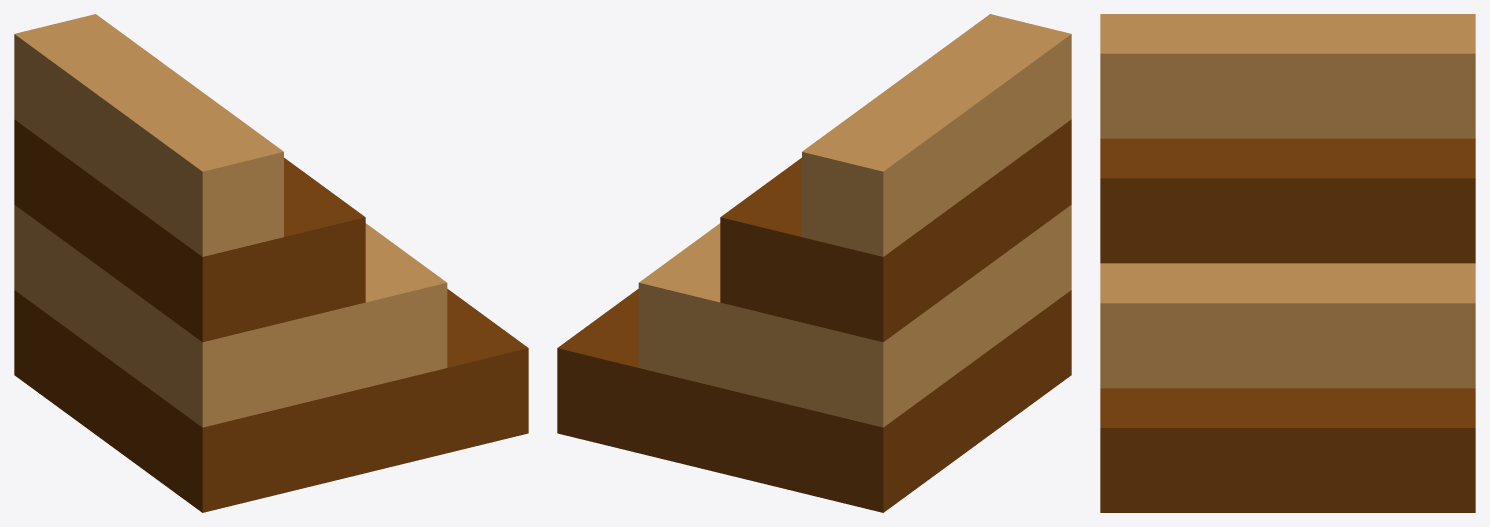
File: Merdiven1.fbx
3 renders of one model, left to right at view 1: azimuth 30°, elevation 25°; view 2: azimuth 150°, elevation 25°; view 3: azimuth 270°, elevation 25°, orthographic.
Visible parts, largest first — view 1: Merdiven1; view 2: Merdiven1; view 3: Merdiven1.
Part boxes in pixels (x1,y1,x2,y2): Merdiven1: [14, 14, 528, 512]; Merdiven1: [557, 14, 1071, 512]; Merdiven1: [1100, 14, 1475, 512].
Size of the model in its own units: 200 by 200 by 200.
